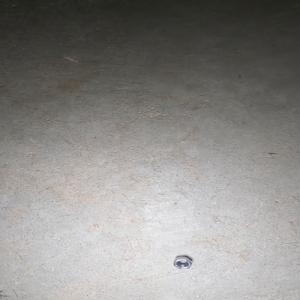Nut: (172, 255, 193, 269)
